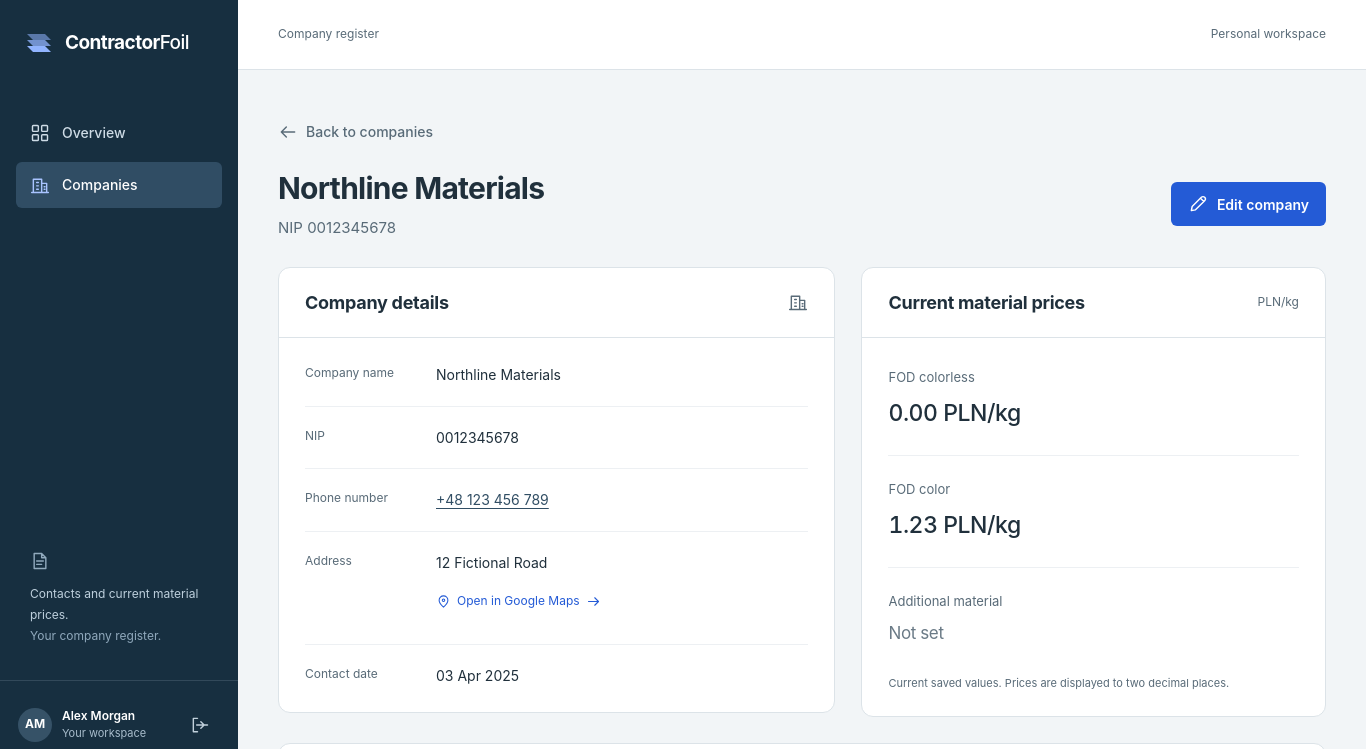
Test case: distinguishes zero, missing and full-precision values on detail and edit
Expected: the text "0.00 PLN/kg" is shown, [888,399,1021,427]
Expected: the text "1.23 PLN/kg" is shown, [888,511,1021,539]
Click the link "Edit company" at point(1248, 204), box [1171,182,1326,226]
(page scrolled)
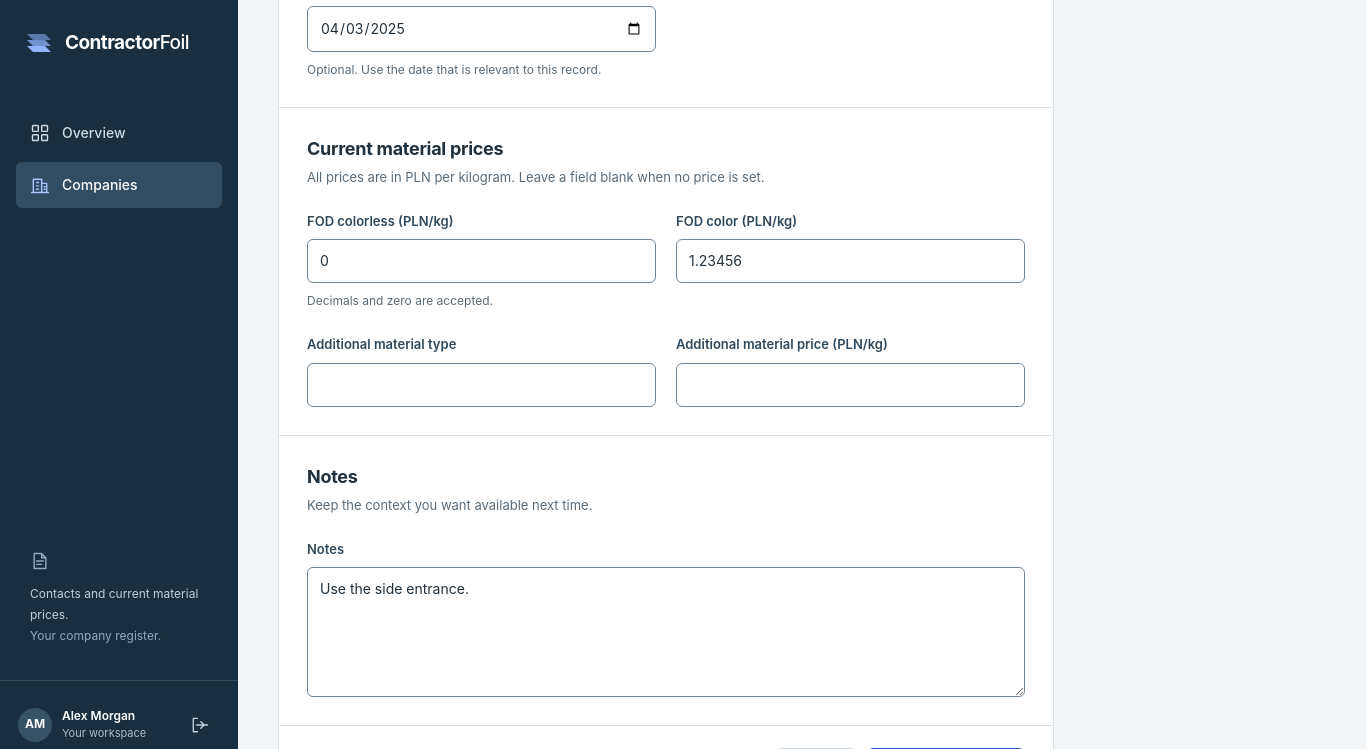
Result: the field labelled "FOD colorless (PLN/kg)" holds "0" at [307,239,656,283]
Result: the field labelled "FOD color (PLN/kg)" holds "1.23456" at [676,239,1025,283]
Result: the field labelled "Additional material price (PLN/kg)" is empty at [676,362,1025,406]
